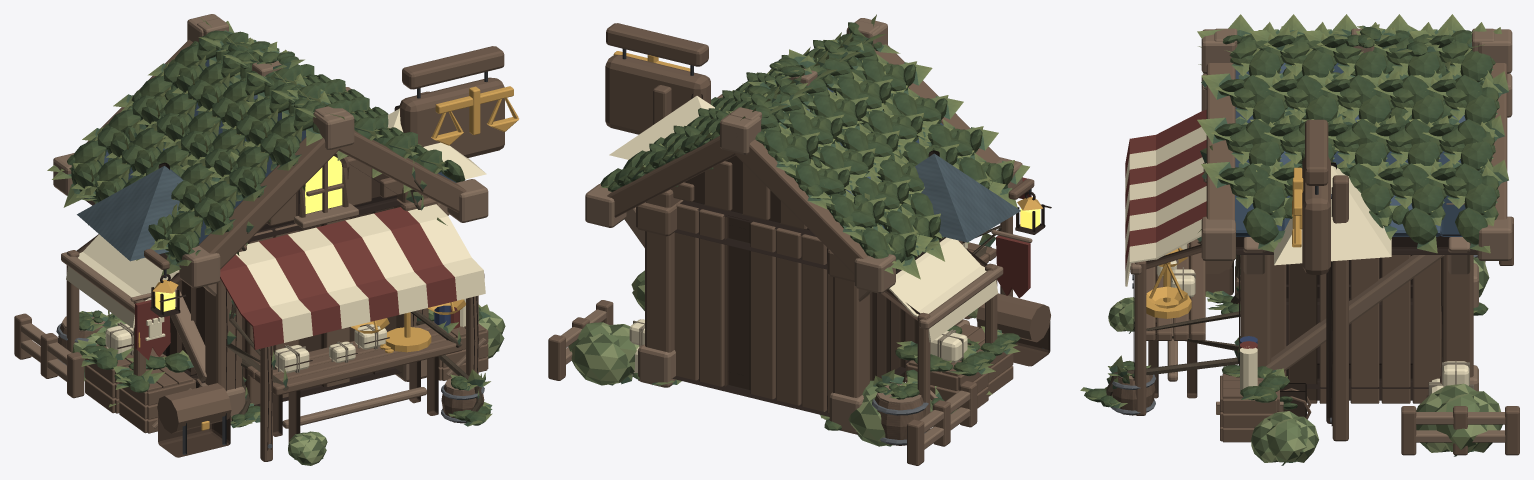
The model's file is trade_market.glb.
The picture shows the model from 3 angles, left to right: view 1: azimuth 30°, elevation 25°; view 2: azimuth 150°, elevation 25°; view 3: azimuth 270°, elevation 25°; orthographic projection. The views are drawn at different scales.
Parts seen in each view (by area): view 1: Woodland peaked merchant canvas, Carved hanging sign, Carved roof verge, Linen work canopy, Canvas canopy stripe.002, Canvas canopy stripe.003, Canvas canopy stripe.004, Canvas canopy stripe.005, Canvas canopy stripe.006, Carved roof verge.002, Canvas canopy stripe.001, Corner upright (+45 smaller); view 2: Carved hanging sign, Linen work canopy, Woodland peaked merchant canvas, Wall timber board.005, Wall timber board.007, Wall timber board.011, Wall timber board.003, Wall timber board.009, Wall timber board.013, Corner upright.001, Carved roof verge.001, Corner upright.003 (+40 smaller); view 3: Trade sign post, Side timber board.009, Woodland peaked merchant canvas.001, Side timber board.011, Side timber board.007, Side wall diagonal.001, Corner upright.003, Side timber board.003, Carved roof verge.002, Carved hanging sign, Corner upright.002, Woodland joint-following vine.001 (+84 smaller).
Boxes of the visible parts, left/top/right/bottom form: Woodland peaked merchant canvas: left=77, top=166, right=183, bottom=261; Carved hanging sign: left=400, top=77, right=504, bottom=157; Carved roof verge: left=198, top=137, right=339, bottom=269; Linen work canopy: left=66, top=234, right=179, bottom=328; Canvas canopy stripe.002: left=259, top=234, right=341, bottom=335; Canvas canopy stripe.003: left=288, top=227, right=370, bottom=328; Canvas canopy stripe.004: left=316, top=220, right=399, bottom=321; Canvas canopy stripe.005: left=345, top=213, right=427, bottom=314; Canvas canopy stripe.006: left=374, top=207, right=456, bottom=307; Carved roof verge.002: left=338, top=130, right=466, bottom=212; Canvas canopy stripe.001: left=236, top=241, right=312, bottom=342; Corner upright: left=205, top=279, right=241, bottom=390; Carved hanging sign: left=605, top=55, right=710, bottom=134; Linen work canopy: left=889, top=237, right=997, bottom=342; Woodland peaked merchant canvas: left=915, top=153, right=1020, bottom=242; Wall timber board.005: left=776, top=228, right=801, bottom=405; Wall timber board.007: left=750, top=221, right=775, bottom=399; Wall timber board.011: left=699, top=209, right=724, bottom=386; Wall timber board.003: left=801, top=234, right=826, bottom=411; Wall timber board.009: left=724, top=215, right=750, bottom=389; Wall timber board.013: left=674, top=203, right=698, bottom=380; Corner upright.001: left=833, top=277, right=869, bottom=397; Carved roof verge.001: left=734, top=139, right=868, bottom=274; Corner upright.003: left=645, top=189, right=680, bottom=352; Trade sign post: left=1332, top=175, right=1348, bottom=441; Side timber board.009: left=1381, top=255, right=1410, bottom=403; Woodland peaked merchant canvas.001: left=1274, top=165, right=1391, bottom=265; Side timber board.011: left=1412, top=255, right=1441, bottom=403; Side timber board.007: left=1350, top=258, right=1379, bottom=403; Side wall diagonal.001: left=1266, top=255, right=1444, bottom=371; Corner upright.003: left=1442, top=203, right=1473, bottom=377; Side timber board.003: left=1288, top=263, right=1317, bottom=403; Carved roof verge.002: left=1206, top=63, right=1235, bottom=220; Carved hanging sign: left=1302, top=157, right=1330, bottom=274; Corner upright.002: left=1240, top=255, right=1271, bottom=366; Woodland joint-following vine.001: left=1106, top=163, right=1240, bottom=395.
Size of the model in its own units: 4.78 by 3.54 by 4.05.
Materials: 39 (10 with a texture image).
